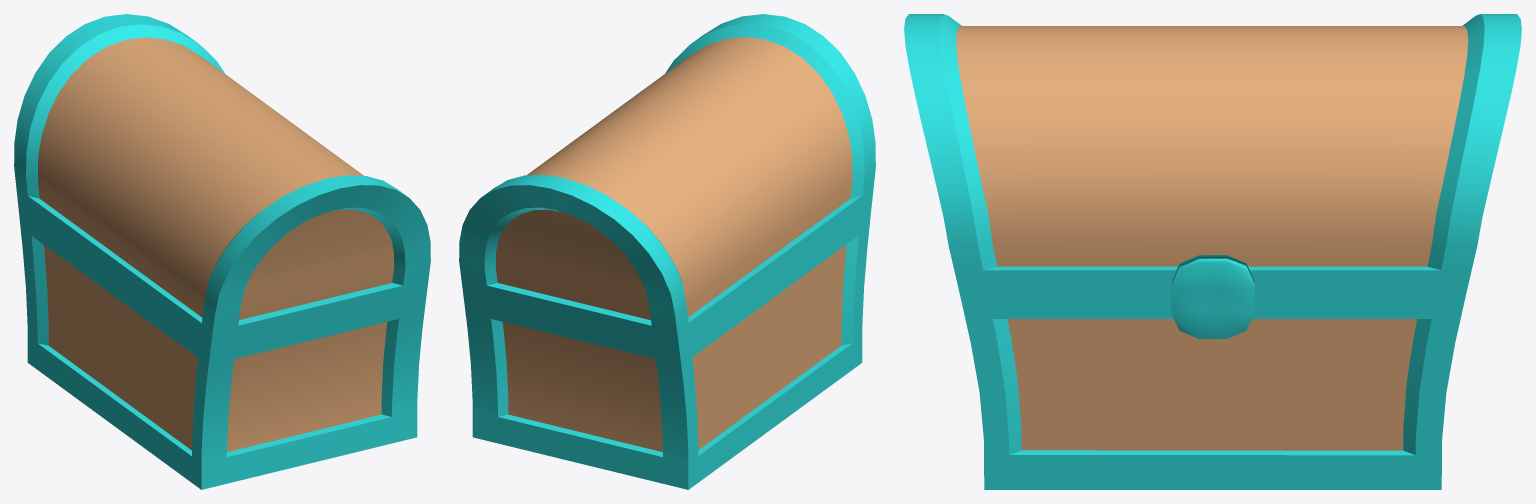
The model's file is coffreClose_low.fbx.
The picture shows the model from 3 angles, left to right: view 1: azimuth 30°, elevation 25°; view 2: azimuth 150°, elevation 25°; view 3: azimuth 270°, elevation 25°; orthographic projection. The views are drawn at different scales.
Parts seen in each view (by area): view 1: top_high, base_high; view 2: top_high, base_high; view 3: top_high, base_high, lock_high.
Boxes of the visible parts, <box> form: top_high: <box>14,14,430,348</box>; base_high: <box>18,208,426,489</box>; top_high: <box>459,14,875,348</box>; base_high: <box>463,208,871,489</box>; top_high: <box>904,14,1521,294</box>; base_high: <box>960,294,1465,489</box>; lock_high: <box>1171,255,1254,338</box>.
Size of the model in its own units: 225 by 280 by 401.
